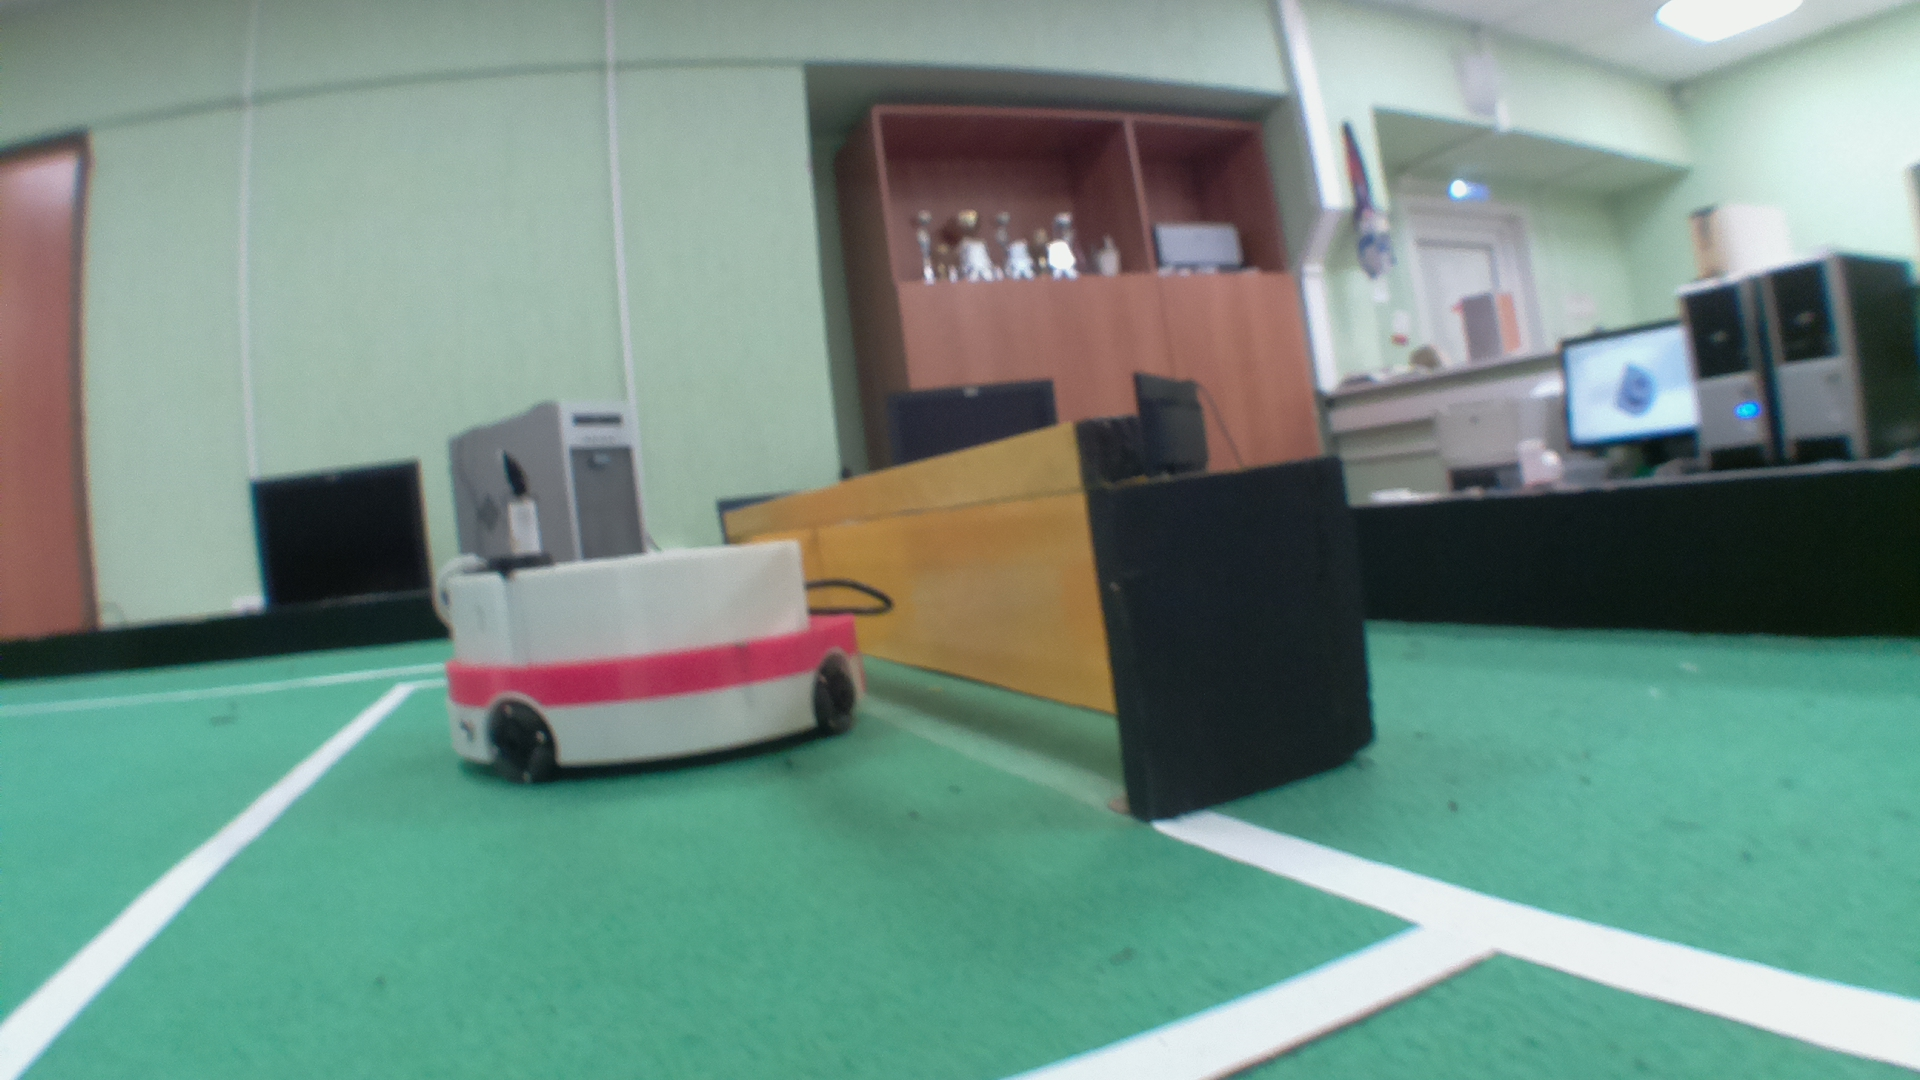YellowGoal: (786, 433, 1113, 716)
